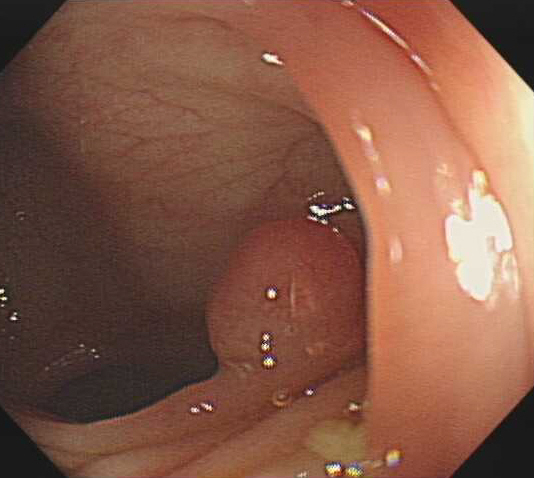others: (198, 212, 368, 383)
